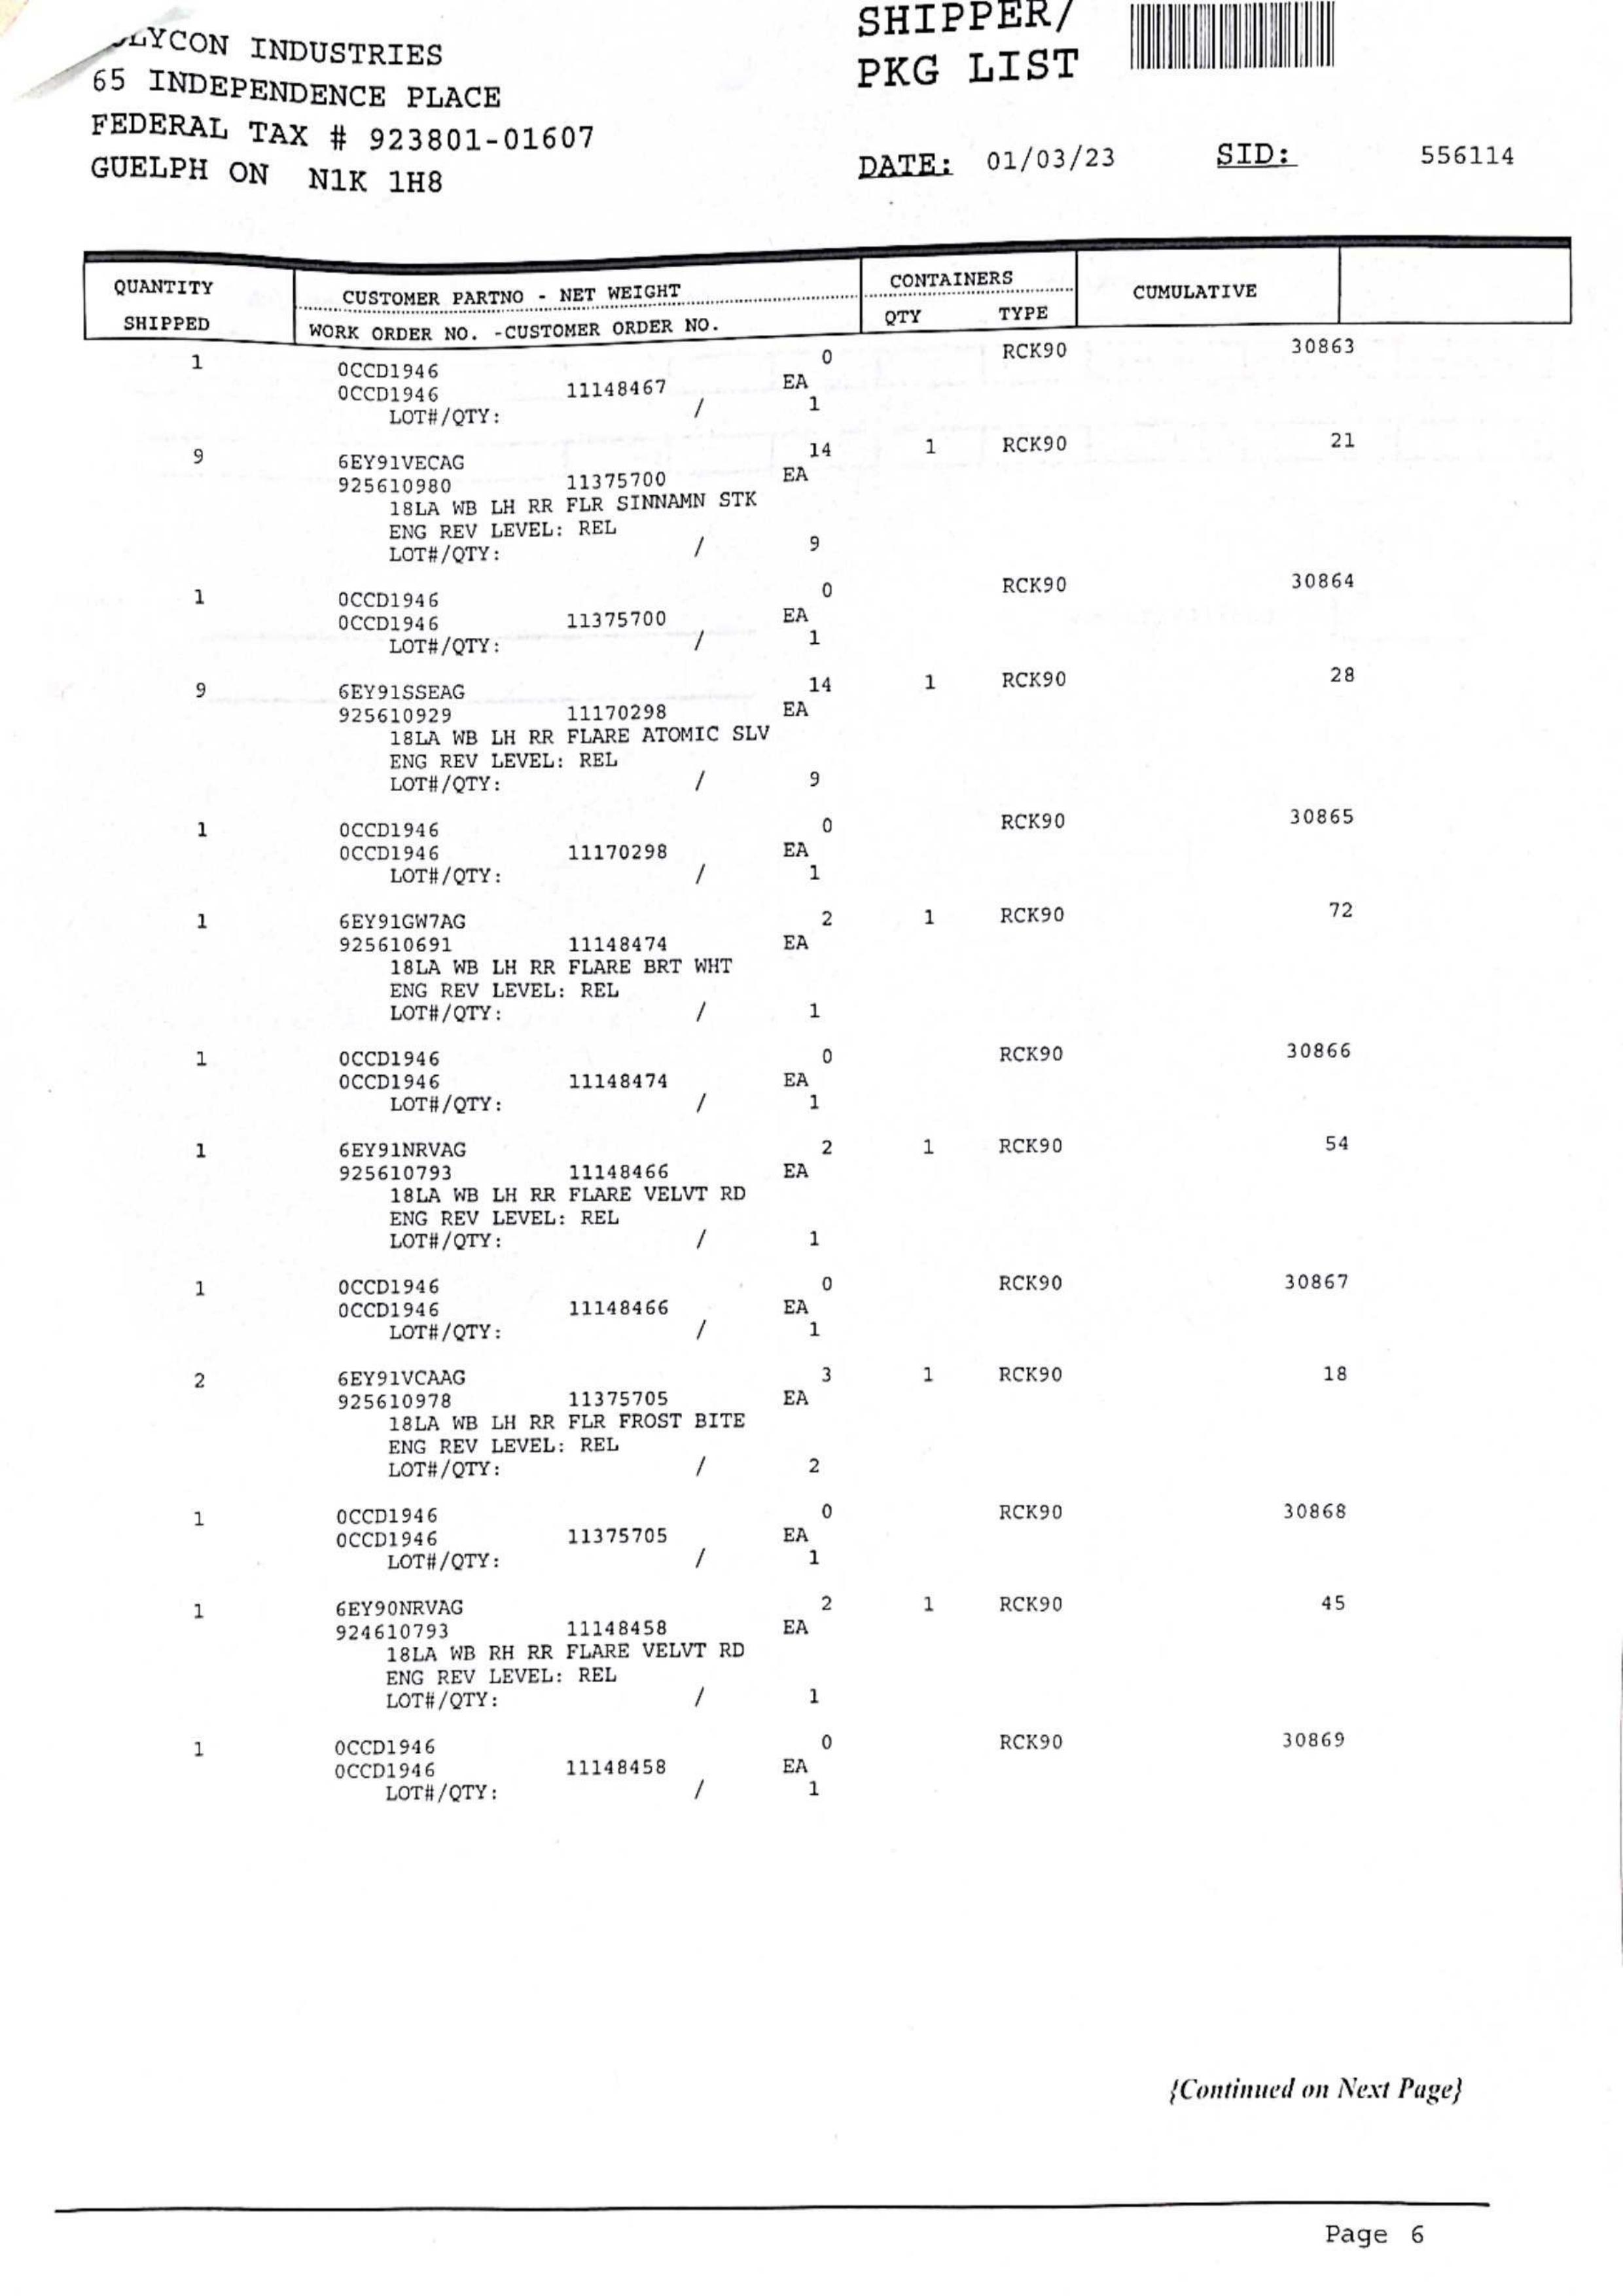B_Paragraph: (90, 61, 601, 219), (1210, 123, 1525, 184), (1149, 2057, 1463, 2119), (834, 140, 1129, 186), (1319, 2210, 1440, 2261)
B_Table: (83, 249, 1574, 1812)
B_Title: (848, 4, 1087, 107), (112, 18, 453, 72)
